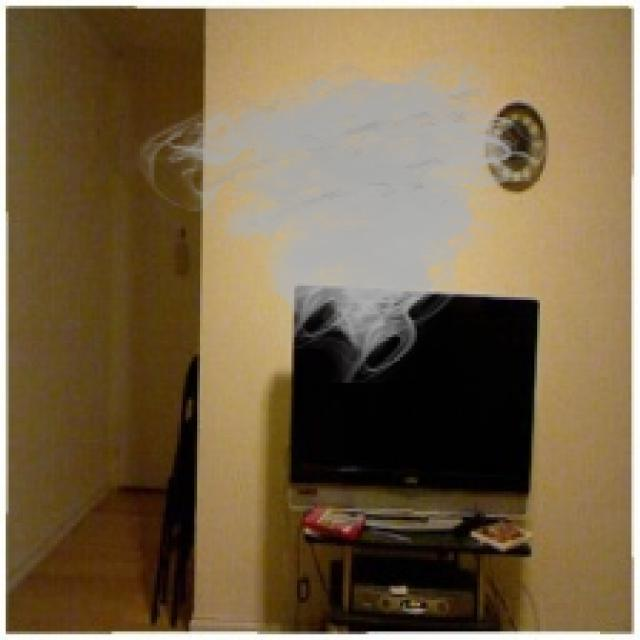Smoke: (132, 40, 552, 383)
